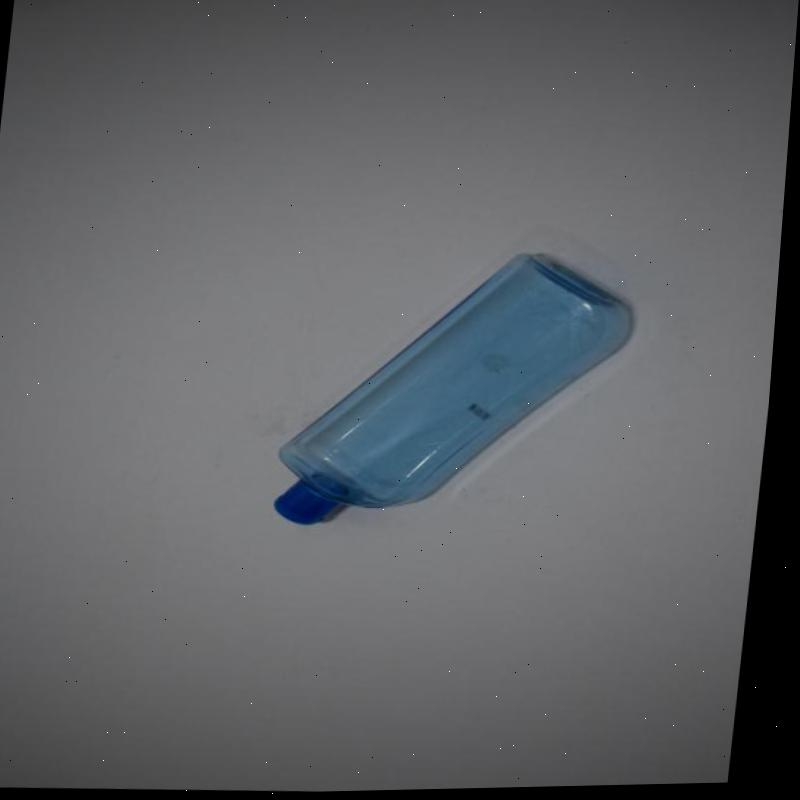botella: (279, 242, 646, 537)
